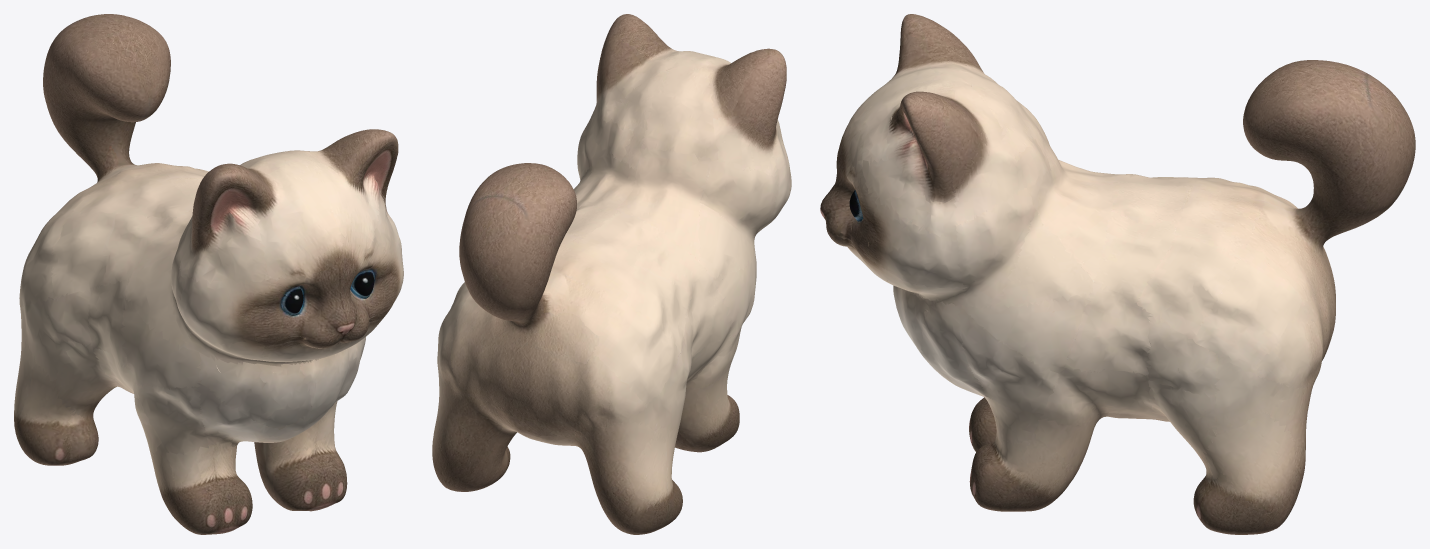
File: meshy-himalayan.glb
3 views of the same model, side by side, from view 1: azimuth 30°, elevation 25°; view 2: azimuth 150°, elevation 25°; view 3: azimuth 270°, elevation 25° (orthographic). The views are drawn at different scales.
Parts seen in each view (by area): view 1: Mesh_0; view 2: Mesh_0; view 3: Mesh_0.
Boxes of the visible parts, x1,y1,x2,y2 form: Mesh_0: (14,14,403,534); Mesh_0: (432,14,791,534); Mesh_0: (820,14,1415,534).
Size of the model in its own units: 0.9948 by 1.49 by 1.9.
Materials: 1 (1 with a texture image).
